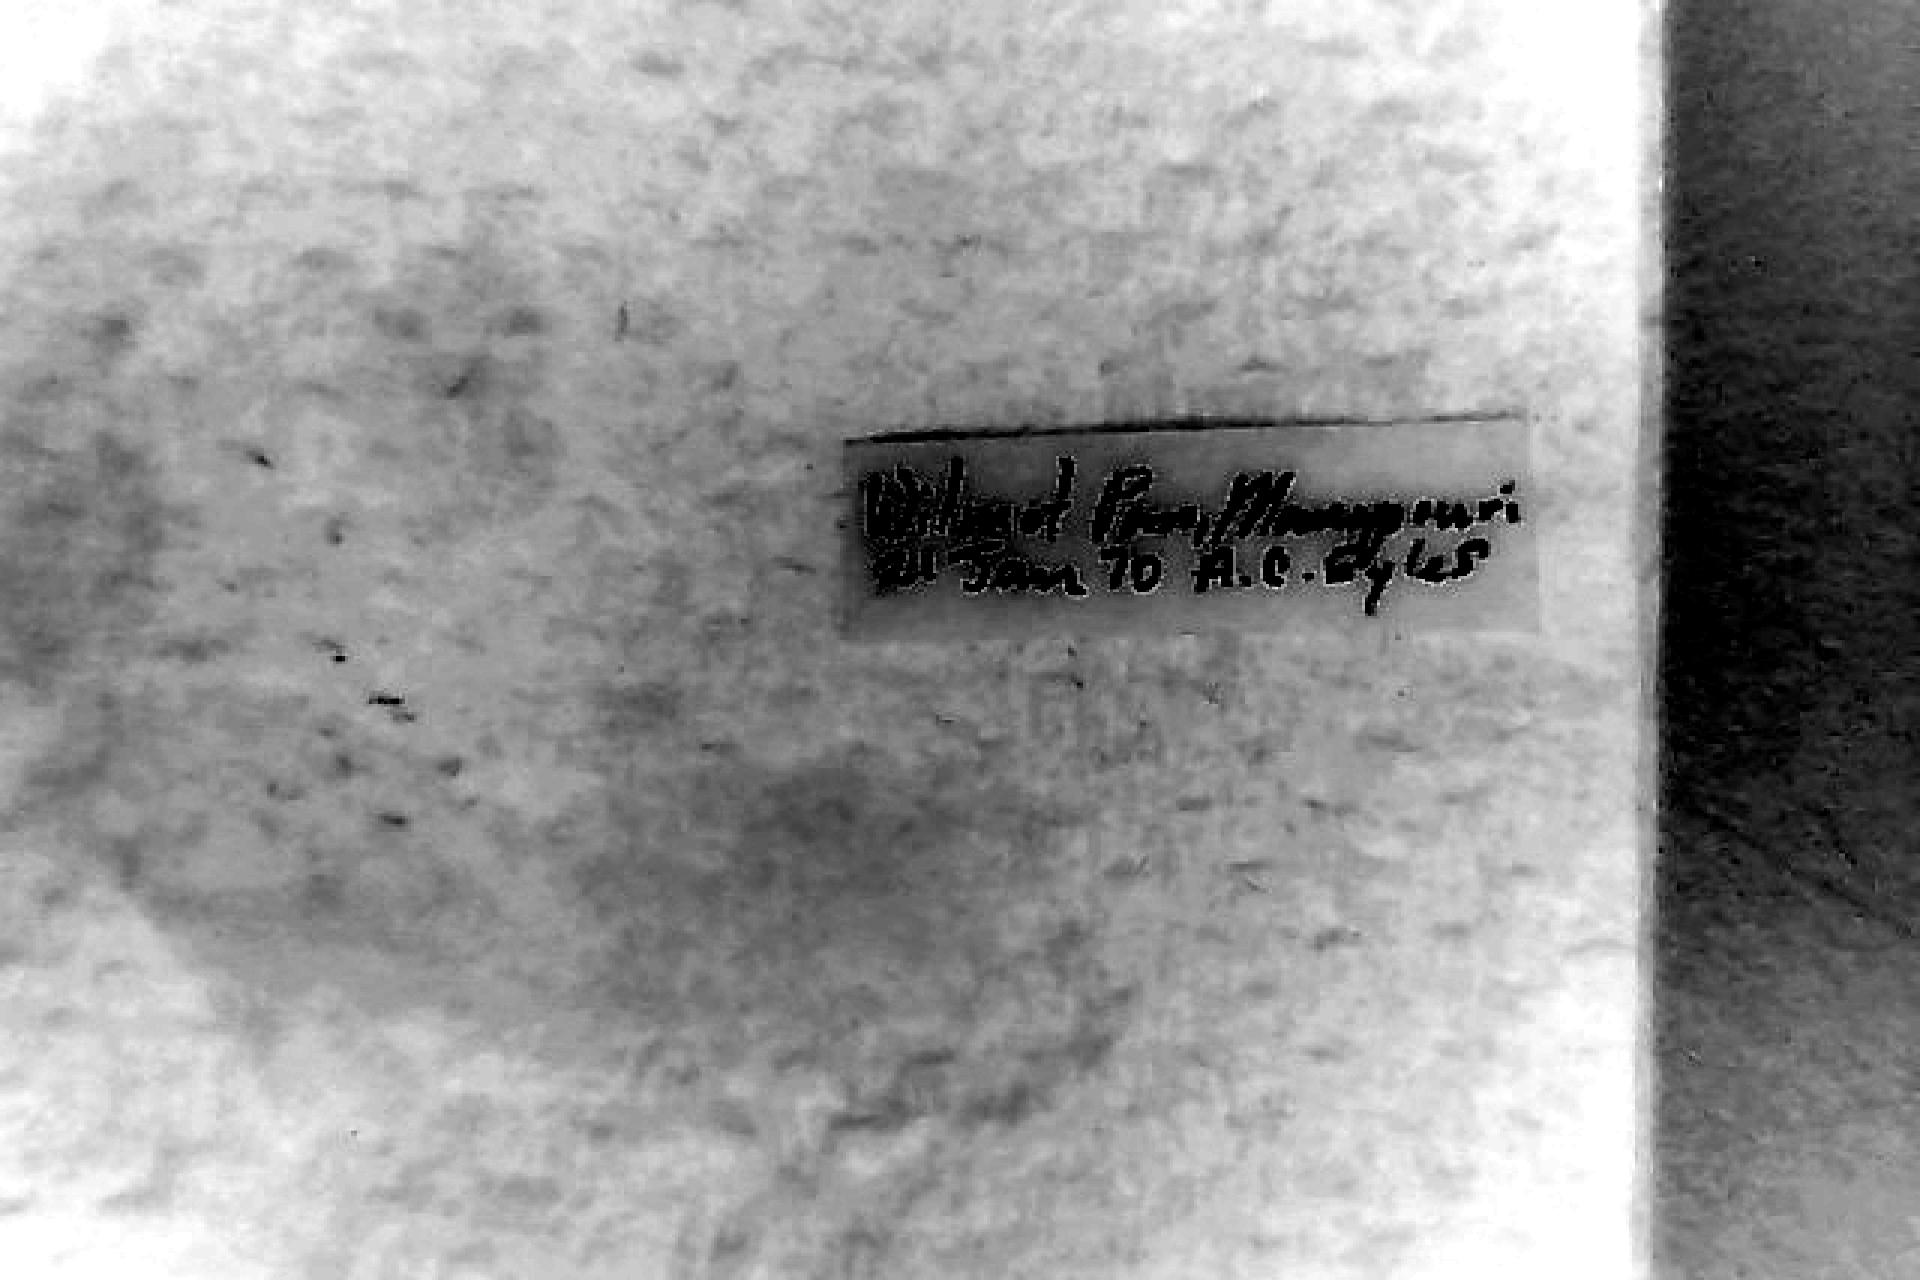hand_label: (847, 417, 1537, 633)
